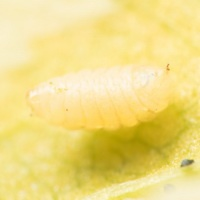insect: (181, 159, 193, 166), (166, 64, 169, 70)
